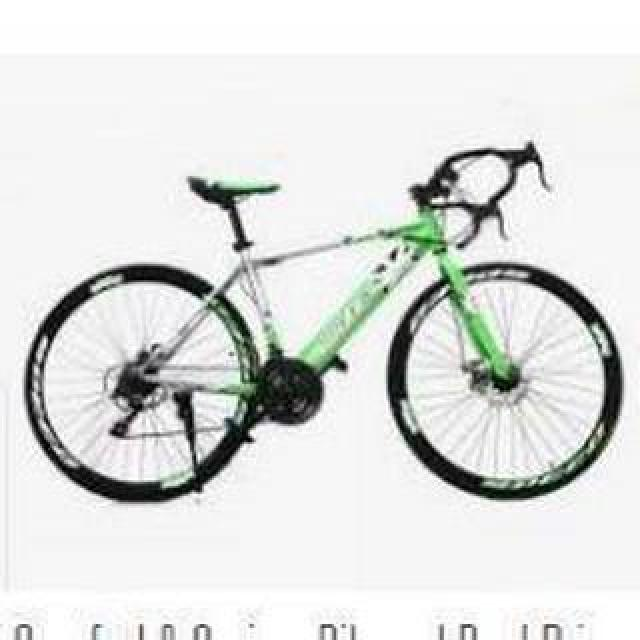Person: (21, 138, 631, 508)
